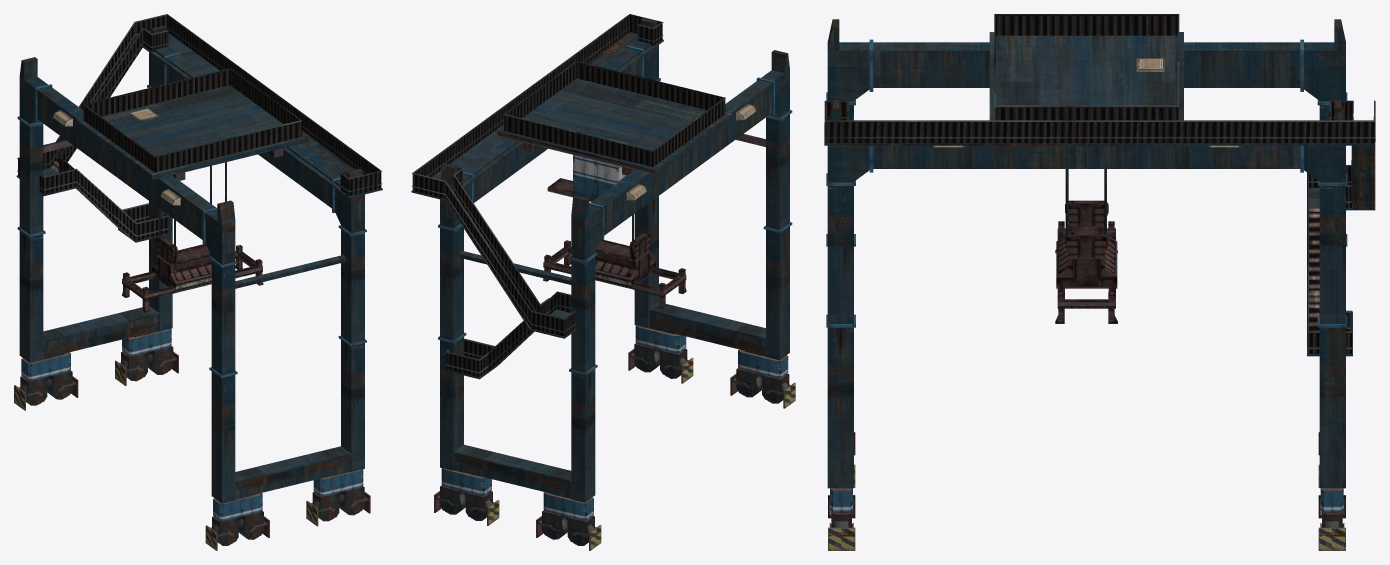
File: tower_crane.glb
The picture shows the model from 3 angles, left to right: view 1: azimuth 30°, elevation 25°; view 2: azimuth 150°, elevation 25°; view 3: azimuth 270°, elevation 25°; orthographic projection. The views are drawn at different scales.
Visible parts, largest first — view 1: tower_crane; view 2: tower_crane; view 3: tower_crane.
Boxes of the visible parts, x1,y1,x2,y2 form: tower_crane: [14, 14, 382, 550]; tower_crane: [411, 14, 795, 550]; tower_crane: [824, 14, 1375, 550].
Bounding box in the file's own units: 1.13 × 2.22 × 2.5.
2 materials, 2 textured.
